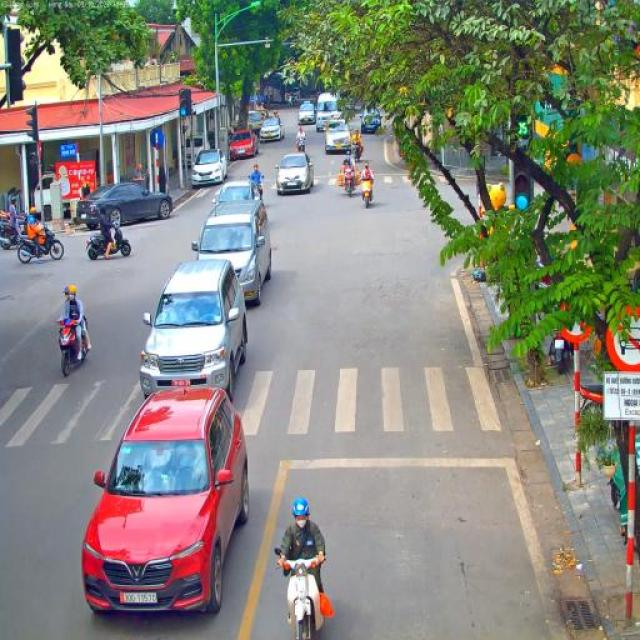car: (80, 386, 250, 618), (138, 258, 250, 402), (192, 199, 272, 306), (76, 181, 174, 231), (274, 152, 314, 194), (191, 148, 228, 187), (212, 180, 263, 208), (324, 112, 352, 154), (227, 129, 259, 162), (260, 116, 285, 142), (361, 108, 383, 134), (246, 110, 262, 140), (298, 100, 318, 124)
motorcycle: (274, 547, 330, 640), (55, 314, 90, 378), (16, 227, 65, 264), (86, 225, 132, 260), (548, 334, 572, 375), (0, 216, 25, 250), (578, 383, 604, 415), (360, 169, 376, 209), (341, 164, 357, 198), (249, 178, 263, 202), (351, 138, 364, 162), (296, 136, 306, 156)
truck: (316, 91, 340, 132)
